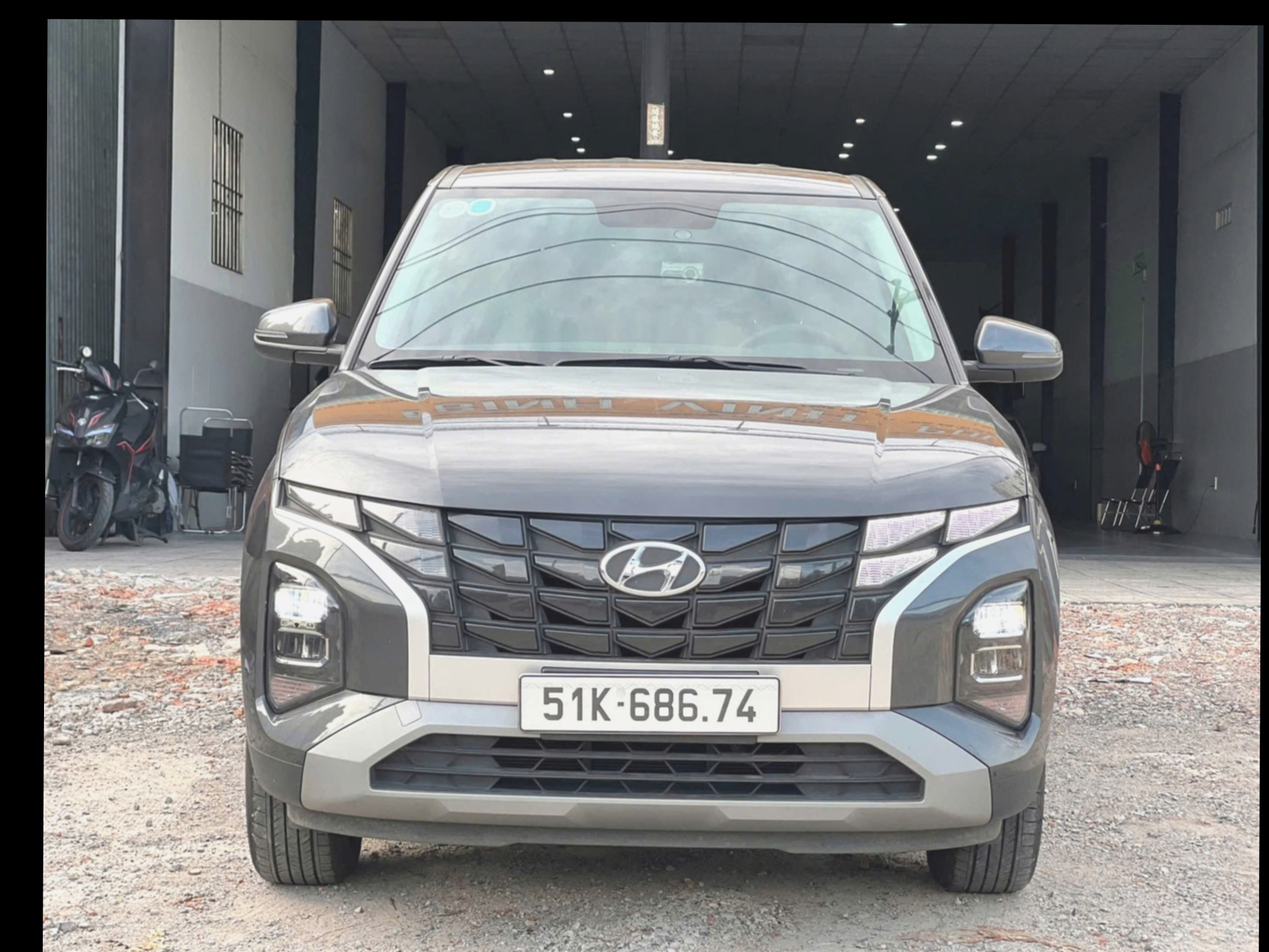Bien-so: (497, 653, 790, 719)
